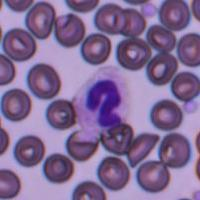N: (72, 68, 130, 132)
